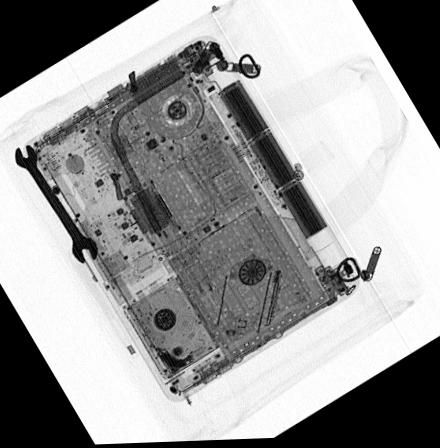Wrench: (12, 141, 99, 267)
